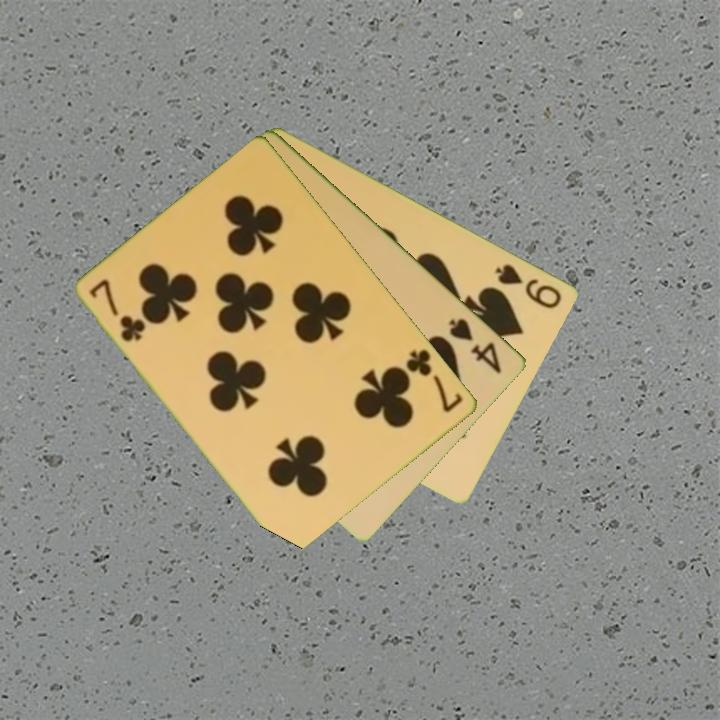4s: (445, 314, 505, 377)
7c: (402, 345, 466, 416), (86, 275, 149, 345)
9s: (492, 259, 565, 312)
